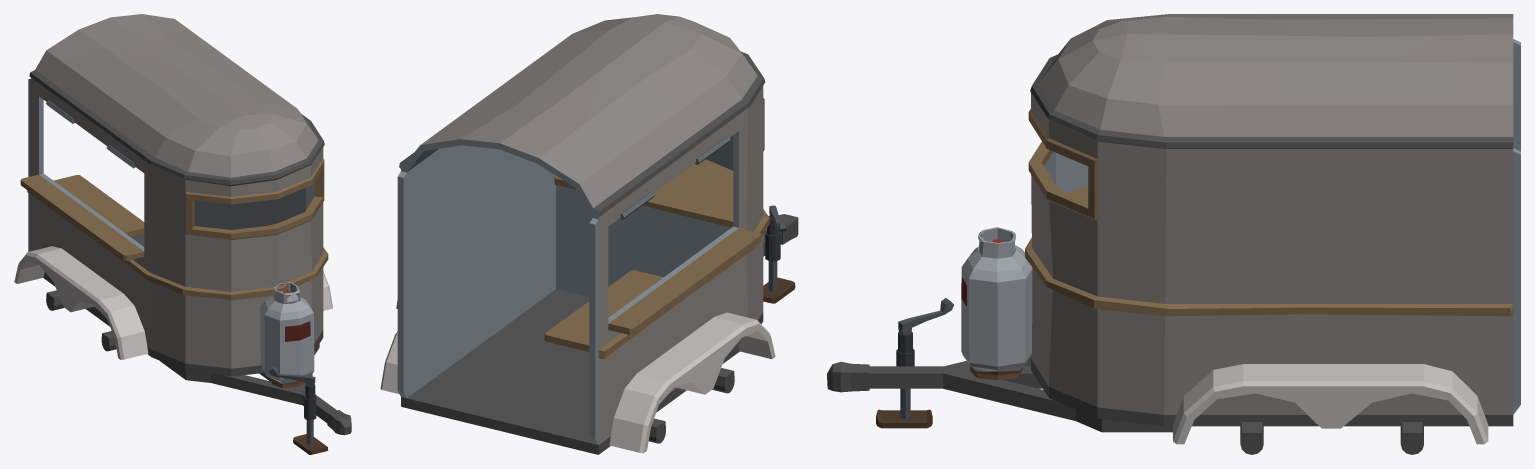
File: SM_Veh_Food_Trailer_01.obj
The picture shows the model from 3 angles, left to right: view 1: azimuth 30°, elevation 25°; view 2: azimuth 150°, elevation 25°; view 3: azimuth 270°, elevation 25°; orthographic projection. The views are drawn at different scales.
Parts seen in each view (by area): view 1: SM_Veh_Food_Trailer_01_0; view 2: SM_Veh_Food_Trailer_01_0; view 3: SM_Veh_Food_Trailer_01_0.
Boxes of the visible parts, box(x1,y1,x2,y2) form: SM_Veh_Food_Trailer_01_0: box(14, 14, 351, 454); SM_Veh_Food_Trailer_01_0: box(380, 14, 798, 454); SM_Veh_Food_Trailer_01_0: box(827, 14, 1520, 454).
Size of the model in its own units: 2.27 by 2.79 by 4.44.
Materials: 1 (1 with a texture image).
